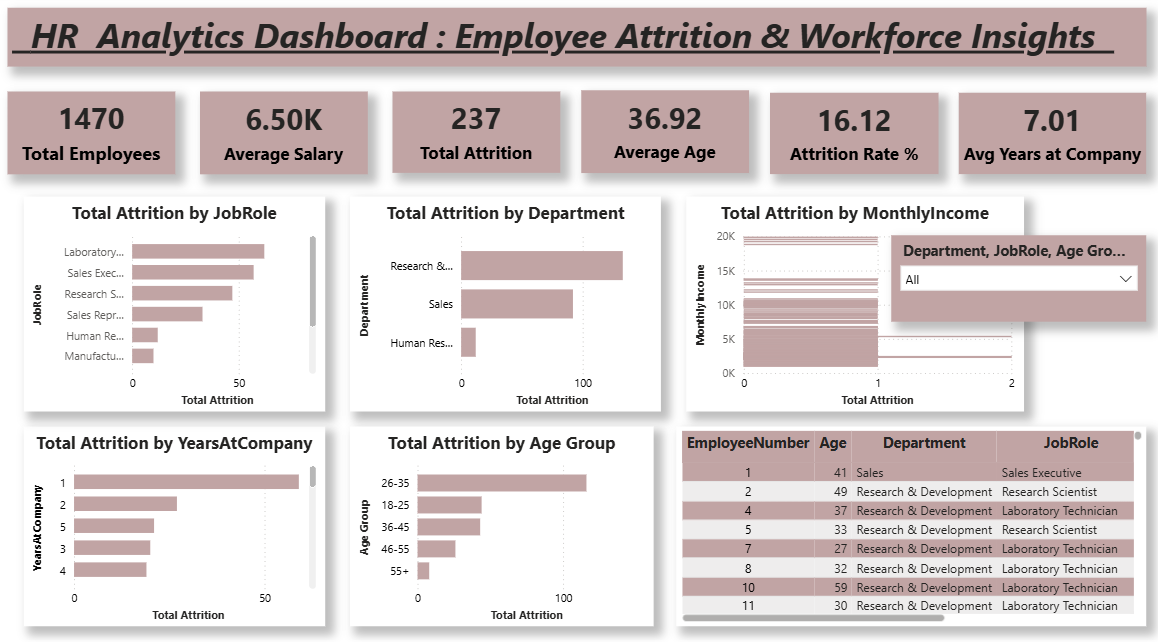

This screenshot's page, from the dashboard's own definition file:
{"tool":"powerbi","page":{"name":"Page 1","canvas":[1280,720],"ordinal":0},"visuals":[{"type":"card","fields":{"Values":["hr-analytics-dataset.Total Employees"]},"box":[8.3,107.4,184.5,90.9],"z":0},{"type":"card","fields":{"Values":["hr-analytics-dataset.Total Attrition"]},"box":[432.3,107.4,184.5,89.5],"z":1000},{"type":"card","fields":{"Values":["hr-analytics-dataset.Attrition Rate %"]},"box":[848,108.8,185.8,89.5],"z":2000},{"type":"card","fields":{"Values":["hr-analytics-dataset.Average Salary"]},"box":[220.3,107.4,184.5,90.9],"z":3000},{"type":"card","fields":{"Values":["hr-analytics-dataset.Average Age"]},"box":[640.1,106,184.5,90.9],"z":4000},{"type":"card","fields":{"Values":["hr-analytics-dataset.Avg Years at Company"]},"box":[1055.9,108.8,206.5,89.5],"z":5000},{"type":"clusteredBarChart","fields":{"Category":["hr-analytics-dataset.Department"],"Y":["hr-analytics-dataset.Total Attrition"]},"box":[385.5,223,342.8,236.8],"z":6000},{"type":"clusteredBarChart","fields":{"Category":["hr-analytics-dataset.Age Group"],"Y":["hr-analytics-dataset.Total Attrition"]},"box":[385.5,476.3,334.5,220.3],"z":7000},{"type":"clusteredBarChart","fields":{"Category":["hr-analytics-dataset.MonthlyIncome"],"Y":["hr-analytics-dataset.Total Attrition"]},"box":[755.8,223,371.7,236.8],"z":8000},{"type":"clusteredBarChart","fields":{"Y":["hr-analytics-dataset.Total Attrition"],"Category":["hr-analytics-dataset.YearsAtCompany"]},"box":[26.2,476.3,331.8,220.3],"z":9000},{"type":"clusteredBarChart","fields":{"Category":["hr-analytics-dataset.JobRole"],"Y":["hr-analytics-dataset.Total Attrition"]},"box":[26.2,223,331.8,236.8],"z":10000},{"type":"tableEx","fields":{"Values":["hr-analytics-dataset.EmployeeNumber","hr-analytics-dataset.Age","hr-analytics-dataset.Department","hr-analytics-dataset.JobRole","hr-analytics-dataset.MonthlyIncome","hr-analytics-dataset.YearsAtCompany","hr-analytics-dataset.Attrition"]},"box":[744.8,476.3,517.6,220.3],"z":11000},{"type":"slicer","title":"filter by:","fields":{"Values":["hr-analytics-dataset.Department","hr-analytics-dataset.JobRole","hr-analytics-dataset.Age Group"]},"box":[981.5,265.7,280.8,95],"z":12000},{"type":"textbox","box":[8.3,15.1,1254.1,64.7],"z":12001}]}

Visuals, with their boxes in screenshot pixels (x1, y1, x2, y2), scaled from the page's 1280x720 canvas onto the 1158x642 screenshot:
card - hr-analytics-dataset.Total Employees: box(8, 96, 174, 177)
card - hr-analytics-dataset.Total Attrition: box(391, 96, 558, 176)
card - hr-analytics-dataset.Attrition Rate %: box(767, 97, 935, 177)
card - hr-analytics-dataset.Average Salary: box(199, 96, 366, 177)
card - hr-analytics-dataset.Average Age: box(579, 95, 746, 176)
card - hr-analytics-dataset.Avg Years at Company: box(955, 97, 1142, 177)
clusteredBarChart - hr-analytics-dataset.Department x hr-analytics-dataset.Total Attrition: box(349, 199, 659, 410)
clusteredBarChart - hr-analytics-dataset.Age Group x hr-analytics-dataset.Total Attrition: box(349, 425, 651, 621)
clusteredBarChart - hr-analytics-dataset.MonthlyIncome x hr-analytics-dataset.Total Attrition: box(684, 199, 1020, 410)
clusteredBarChart - hr-analytics-dataset.Total Attrition x hr-analytics-dataset.YearsAtCompany: box(24, 425, 324, 621)
clusteredBarChart - hr-analytics-dataset.JobRole x hr-analytics-dataset.Total Attrition: box(24, 199, 324, 410)
tableEx - hr-analytics-dataset.EmployeeNumber x hr-analytics-dataset.Age: box(674, 425, 1142, 621)
"filter by:" slicer: box(888, 237, 1142, 322)
textbox: box(8, 13, 1142, 71)
